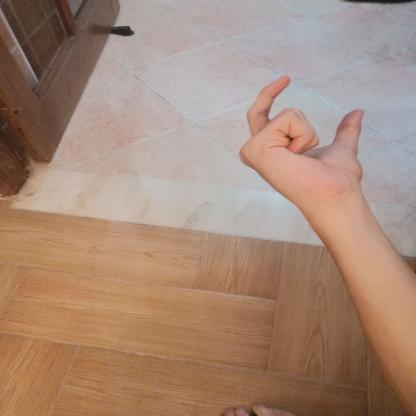NOON: (223, 66, 376, 215)
